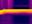Hotspot: (0, 9, 31, 11)
